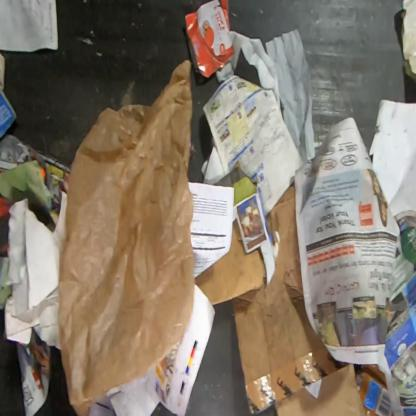cardboard: (232, 181, 368, 415), (195, 218, 266, 306)
soft_plastic: (57, 58, 196, 415)
